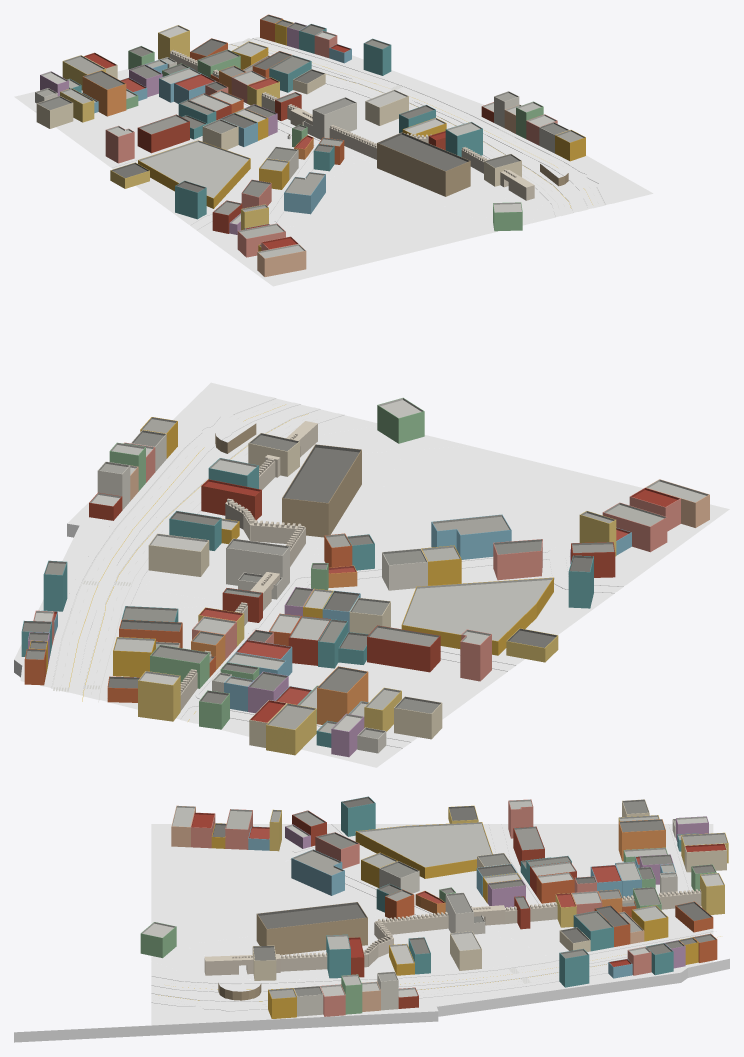
3 views of the same model, one above another, from view 1: azimuth 30°, elevation 25°; view 2: azimuth 150°, elevation 25°; view 3: azimuth 270°, elevation 25° (orthographic). The views are drawn at different scales.
Visible parts, largest first — view 1: walls, plaza, roofs, asphalt, sidewalk, stone, pavers, concrete; view 2: walls, plaza, roofs, asphalt, sidewalk, stone, pavers, concrete, markings; view 3: walls, plaza, roofs, coast, asphalt, stone, sidewalk, pavers, concrete, markings.
Part boxes in pixels (x1,y1,x2,y2): walls: (35, 19, 585, 276); plaza: (14, 37, 653, 286); roofs: (35, 14, 585, 258); asphalt: (35, 38, 618, 216); sidewalk: (33, 37, 610, 230); stone: (170, 50, 534, 200); pavers: (190, 151, 493, 276); concrete: (278, 87, 549, 239); walls: (21, 405, 709, 757); plaza: (14, 382, 729, 767); roofs: (21, 397, 709, 739); asphalt: (51, 394, 515, 747); sidewalk: (44, 396, 625, 748); stone: (180, 421, 317, 710); pavers: (301, 435, 629, 591); concrete: (138, 423, 555, 608); markings: (52, 399, 313, 721); walls: (140, 801, 728, 1018); plaza: (151, 824, 713, 1025); roofs: (141, 796, 728, 998); coast: (14, 958, 729, 1042); asphalt: (151, 824, 713, 1009); stone: (204, 889, 701, 975); sidewalk: (151, 824, 713, 1011); pavers: (151, 824, 432, 947); concrete: (151, 859, 556, 979); markings: (153, 931, 720, 1006).
Size of what is drawn, in the model's own units: 227 by 19.15 by 318.
